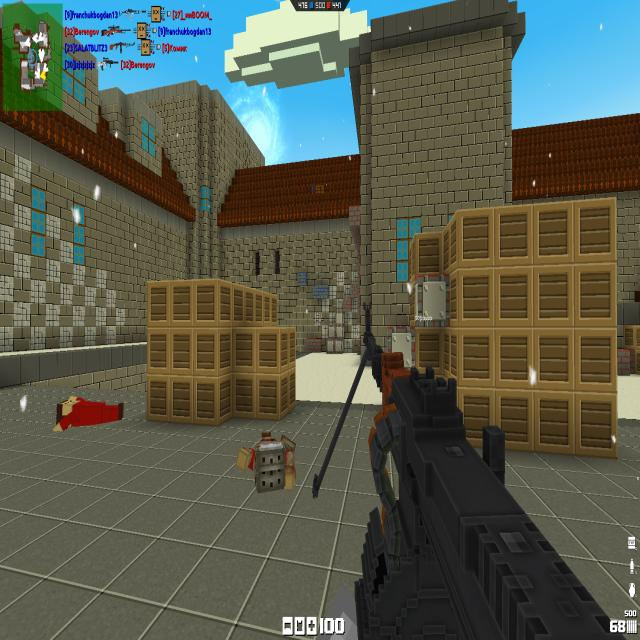player: (234, 427, 296, 491), (52, 396, 126, 432)
